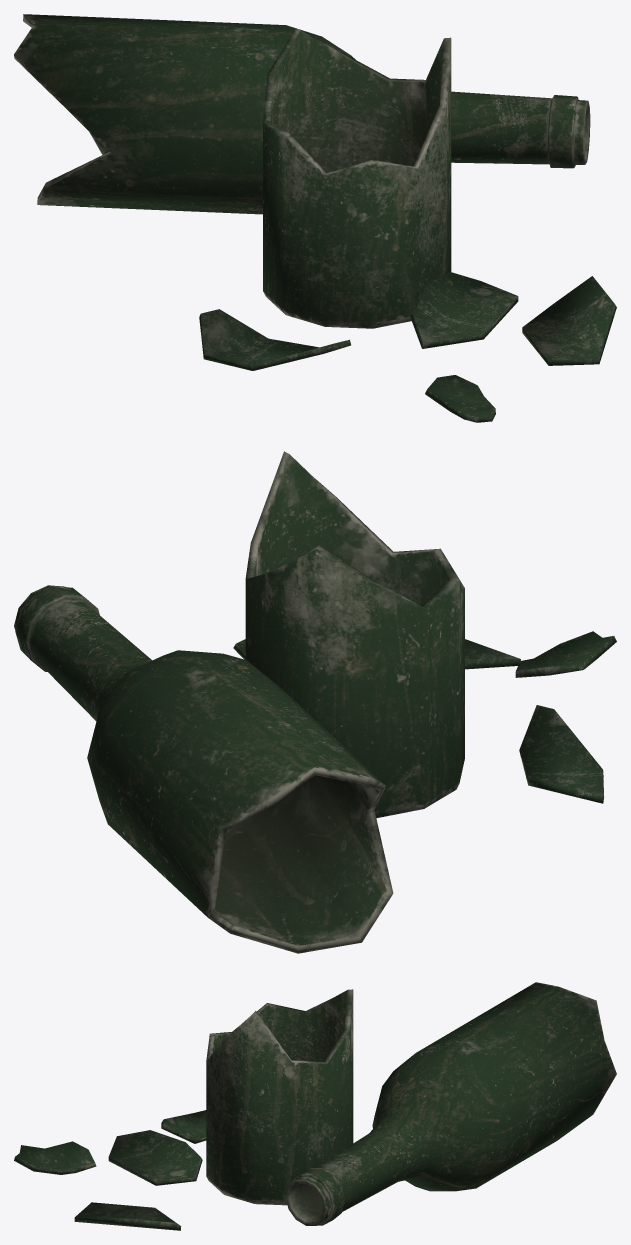
Rendered from Broken_bottle_0.glb.
3 renders of one model, top to bottom at view 1: azimuth 30°, elevation 25°; view 2: azimuth 150°, elevation 25°; view 3: azimuth 270°, elevation 25°, orthographic. The views are drawn at different scales.
Visible parts, largest first — view 1: Bottle2_bottle2_0, shard2_shard2_0, shard4_shard4_0, shard_shard_0, shard3_shard3_0; view 2: Bottle2_bottle2_0, shard_shard_0, shard3_shard3_0, shard2_shard2_0; view 3: Bottle2_bottle2_0, shard2_shard2_0, shard3_shard3_0, shard4_shard4_0, shard_shard_0.
Boxes of the visible parts, x1=… form: Bottle2_bottle2_0: x1=14, y1=14, x2=590, y2=328; shard2_shard2_0: x1=410, y1=272, x2=518, y2=348; shard4_shard4_0: x1=522, y1=276, x2=616, y2=365; shard_shard_0: x1=199, y1=309, x2=350, y2=370; shard3_shard3_0: x1=425, y1=375, x2=495, y2=422; Bottle2_bottle2_0: x1=14, y1=451, x2=464, y2=953; shard_shard_0: x1=519, y1=705, x2=604, y2=803; shard3_shard3_0: x1=515, y1=631, x2=616, y2=677; shard2_shard2_0: x1=465, y1=639, x2=520, y2=669; Bottle2_bottle2_0: x1=206, y1=982, x2=616, y2=1225; shard2_shard2_0: x1=108, y1=1130, x2=202, y2=1185; shard3_shard3_0: x1=14, y1=1141, x2=96, y2=1174; shard4_shard4_0: x1=74, y1=1202, x2=181, y2=1230; shard_shard_0: x1=161, y1=1110, x2=206, y2=1143.
Bounding box in the file's own units: 0.5218 × 0.2823 × 0.7817.
5 materials, 5 textured.
